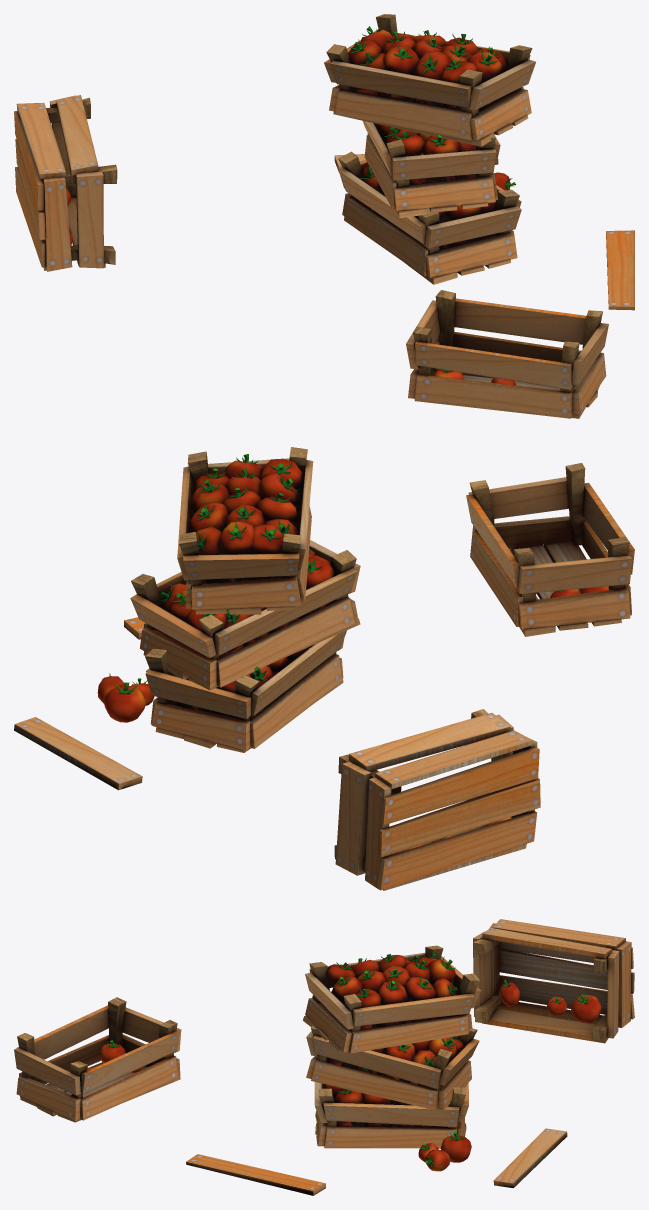
File: TomatoBox_01.fbx
3 views of the same model, one above another, from view 1: azimuth 30°, elevation 25°; view 2: azimuth 150°, elevation 25°; view 3: azimuth 270°, elevation 25° (orthographic). The views are drawn at different scales.
Visible parts, largest first — view 1: Box_Empty001, Box_Empty, BoxWithTomato002, BoxWithTomato, BoxWithTomato001, TomatoGroup002, Plank2, TomatoGroup001, TomatoGroup; view 2: Box_Empty, Box_Empty001, BoxWithTomato001, BoxWithTomato, BoxWithTomato002, TomatoGroup002, Plank1, TomatoGroup001, Tomato002, TomatoGroup; view 3: Box_Empty, Box_Empty001, BoxWithTomato002, BoxWithTomato001, BoxWithTomato, TomatoGroup002, Plank2, TomatoGroup001, Plank1, TomatoGroup, Tomato006, Tomato002 (+2 smaller).
Part boxes in pixels (box(x1,y1,x2,y2)): Box_Empty001: box(406, 290, 608, 418); Box_Empty: box(14, 95, 117, 271); BoxWithTomato002: box(324, 14, 535, 146); BoxWithTomato: box(338, 151, 521, 284); BoxWithTomato001: box(363, 121, 500, 218); TomatoGroup002: box(348, 26, 507, 111); Plank2: box(606, 230, 634, 310); TomatoGroup001: box(373, 123, 476, 185); TomatoGroup: box(359, 153, 495, 250); Box_Empty: box(334, 709, 540, 890); Box_Empty001: box(466, 463, 634, 636); BoxWithTomato001: box(130, 540, 360, 690); BoxWithTomato: box(145, 630, 346, 752); BoxWithTomato002: box(177, 447, 313, 614); TomatoGroup002: box(189, 454, 303, 583); Plank1: box(14, 717, 142, 790); TomatoGroup001: box(159, 549, 334, 657); Tomato002: box(103, 682, 146, 722); TomatoGroup: box(171, 644, 320, 719); Box_Empty: box(473, 919, 634, 1043); Box_Empty001: box(14, 997, 181, 1122); BoxWithTomato002: box(303, 945, 481, 1053); BoxWithTomato001: box(306, 1026, 479, 1110); BoxWithTomato: box(314, 1082, 468, 1148); TomatoGroup002: box(325, 953, 457, 1030); Plank2: box(186, 1154, 325, 1195); TomatoGroup001: box(328, 1036, 463, 1087); Plank1: box(493, 1128, 567, 1188); TomatoGroup: box(325, 1075, 448, 1127); Tomato006: box(571, 992, 601, 1023); Tomato002: box(440, 1131, 471, 1162).
Size of the model in its own units: 578 by 232 by 766.
